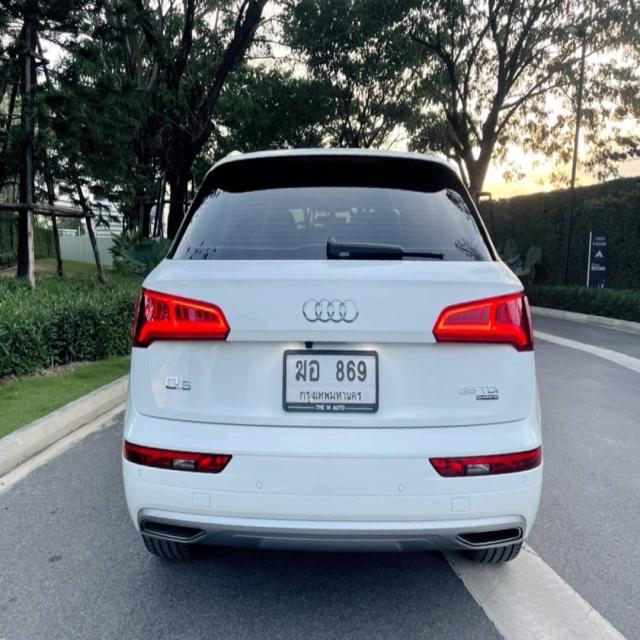license_plate: (282, 345, 381, 417)
